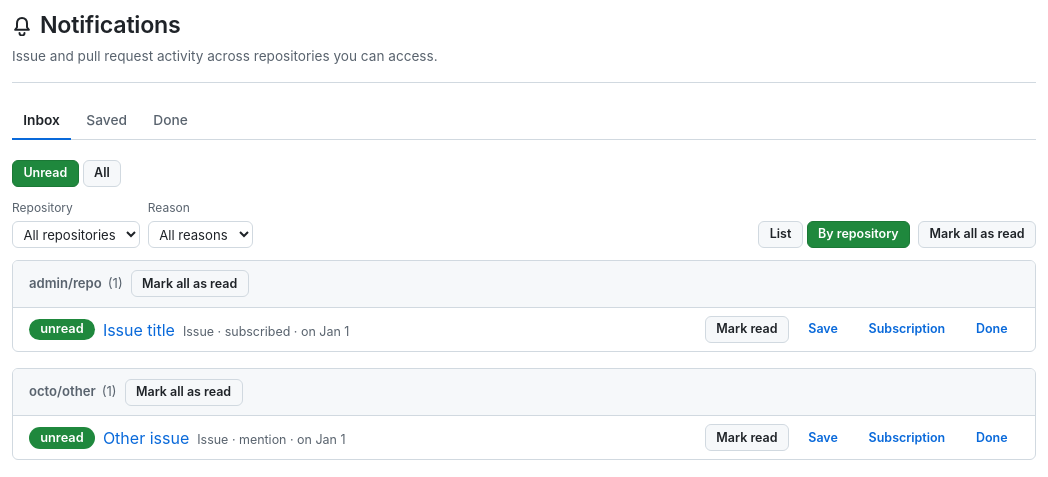
NotificationsPage › filters the inbox by repository and by reason
Expected: the link "Other issue" is shown, [103, 425, 189, 451]
Expected: the link "Issue title" is shown, [103, 316, 175, 342]
Select "octo/other" in the dropdown named "Filter by repository": (76, 234) [12, 221, 140, 248]
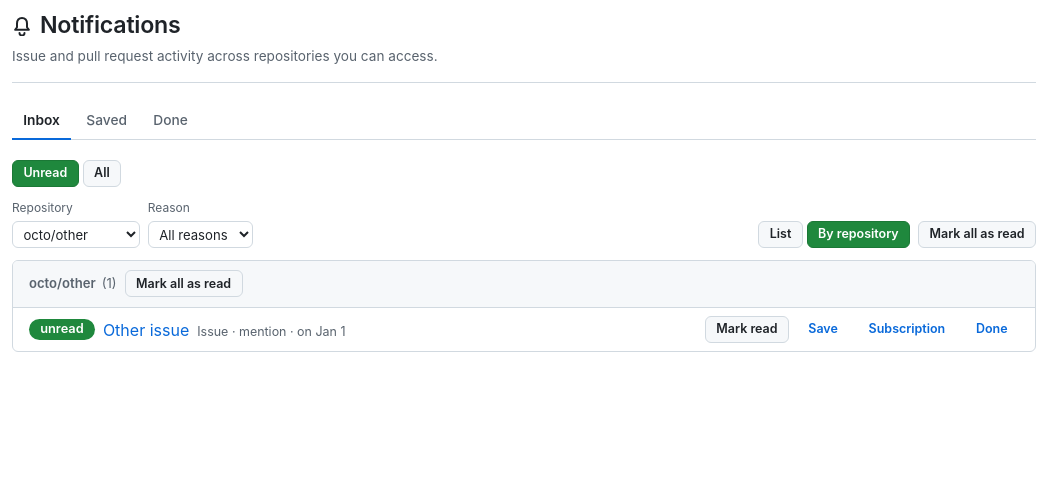
Expected: the link "Other issue" is shown, [103, 316, 189, 342]
Expected: the link "Issue title" is gone
Select "All repositories" in the dropdown named "Filter by repository": (76, 234) [12, 221, 140, 248]
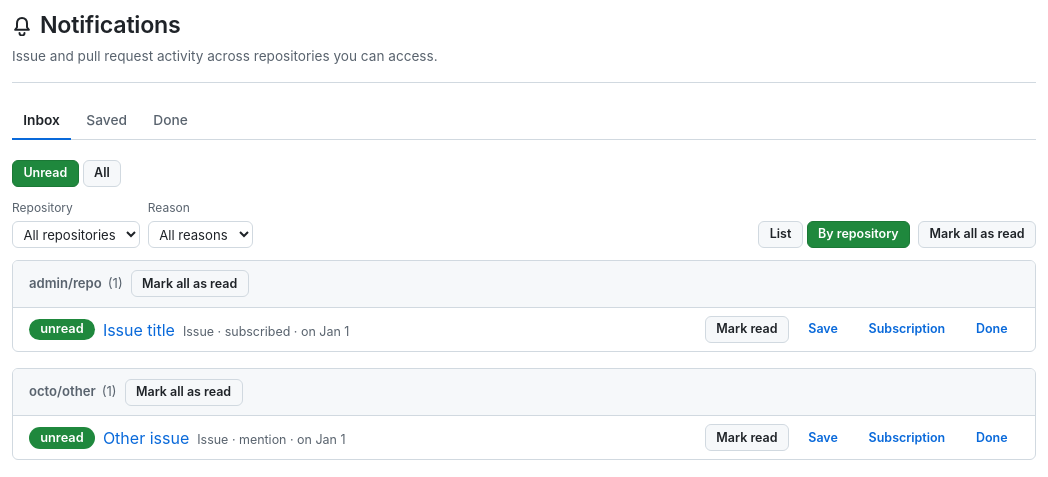
Select "subscribed" in the dropdown named "Filter by reason": (200, 234) [148, 221, 253, 248]
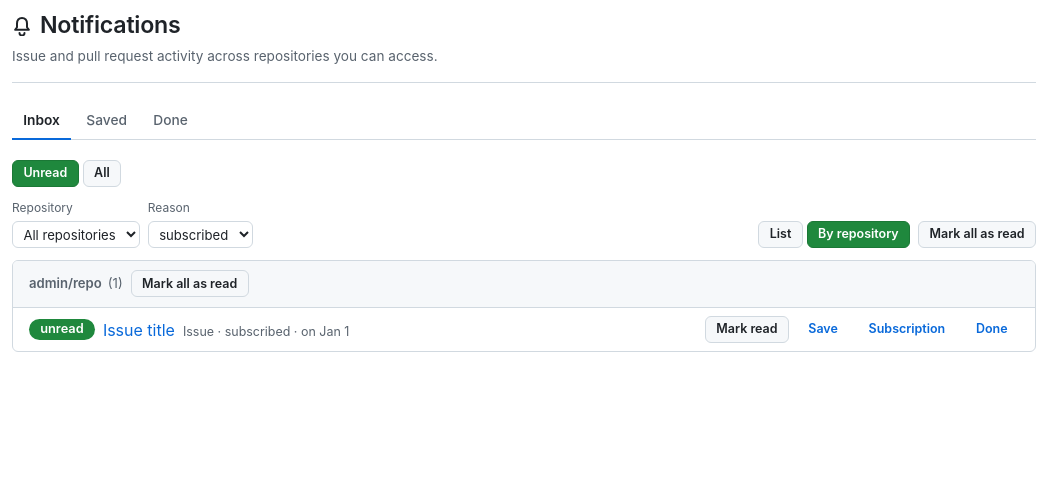
Expected: the link "Issue title" is shown, [103, 316, 175, 342]
Expected: the link "Other issue" is gone
